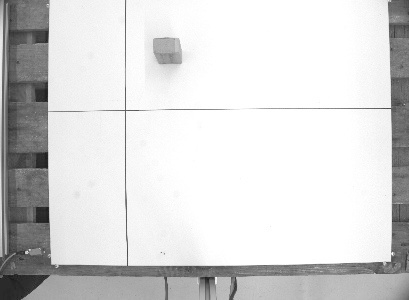b1: (151, 34, 184, 66)
